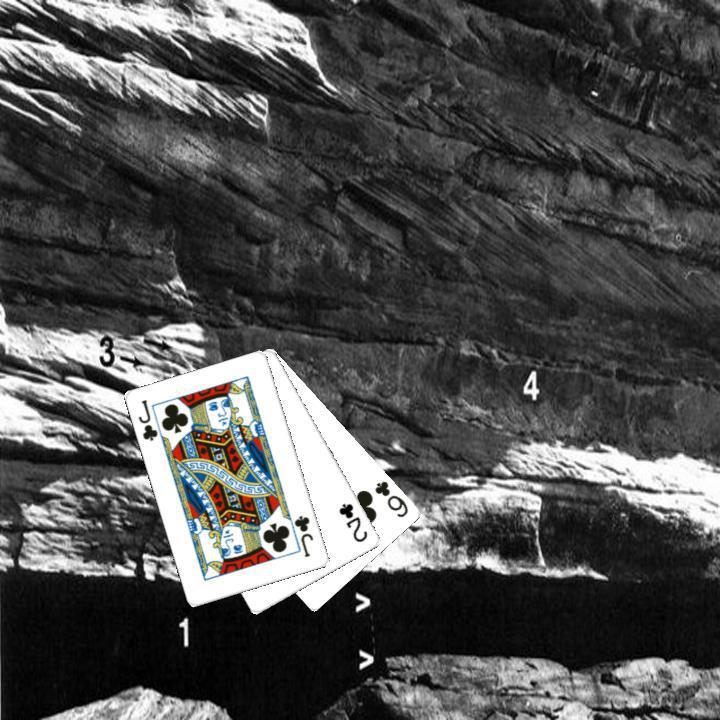2: (335, 499, 370, 544)
6: (371, 476, 411, 520)
J: (290, 511, 316, 560), (134, 395, 160, 443)
